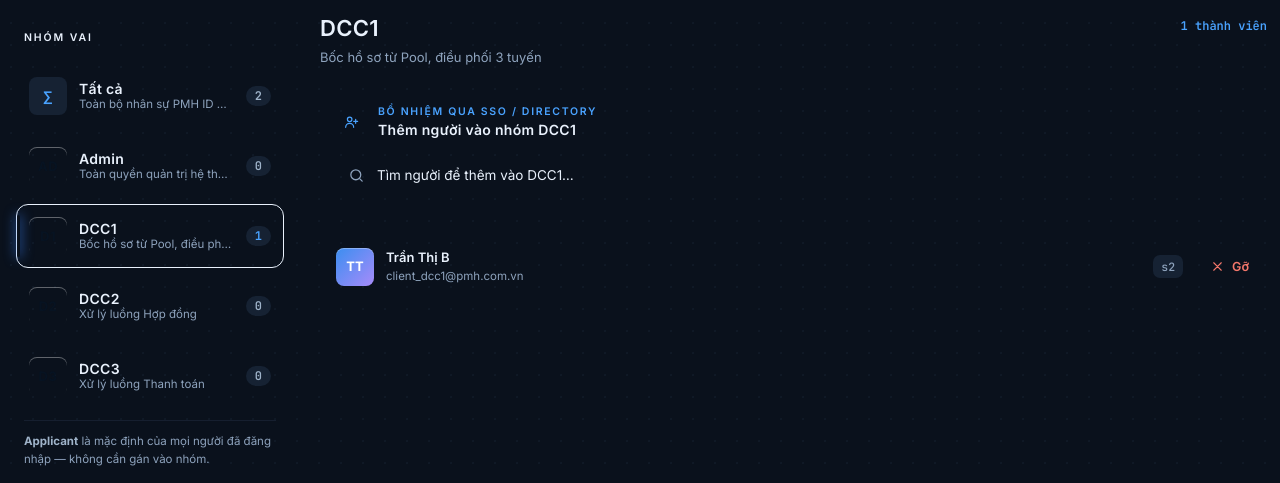
Test case: AdminUsers — quản vai theo nhóm (1 người 1 vai/nhóm) › nhóm rỗng hiện trạng thái trống
Check: the text "Trần Thị B" is shown, box [386,249,450,265]
Click the button "AD Admin Toàn quyền quản trị hệ thống 0" at (150, 166), box [16,134,284,198]
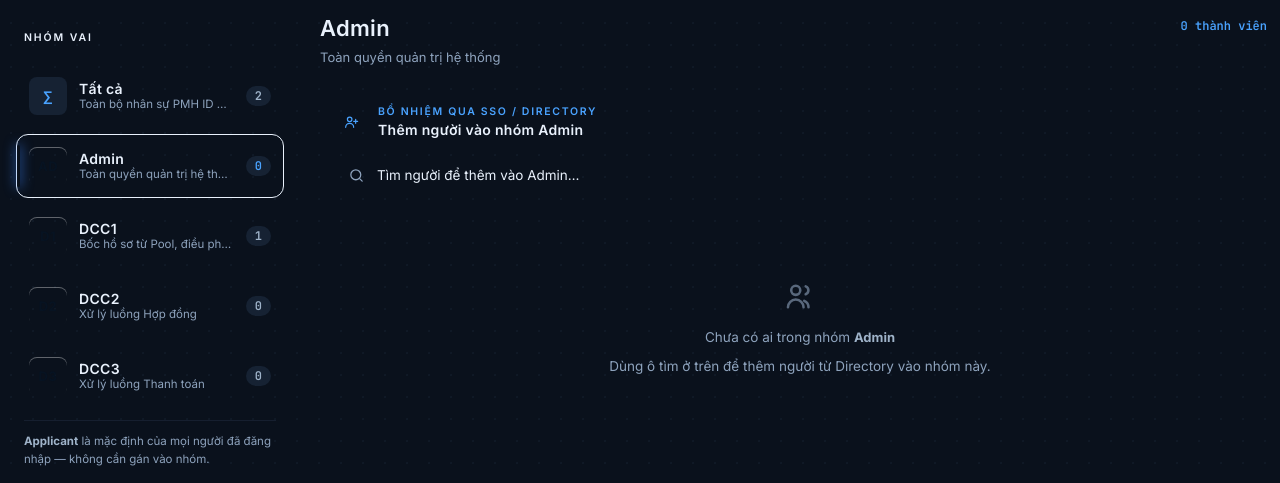
Check: the text "Chưa có ai trong nhóm Admin" is shown, box [705,327,895,347]
